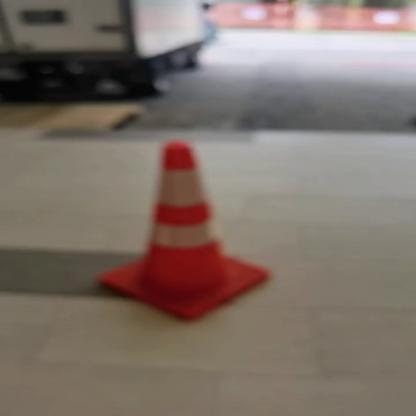cone: (98, 132, 286, 321)
